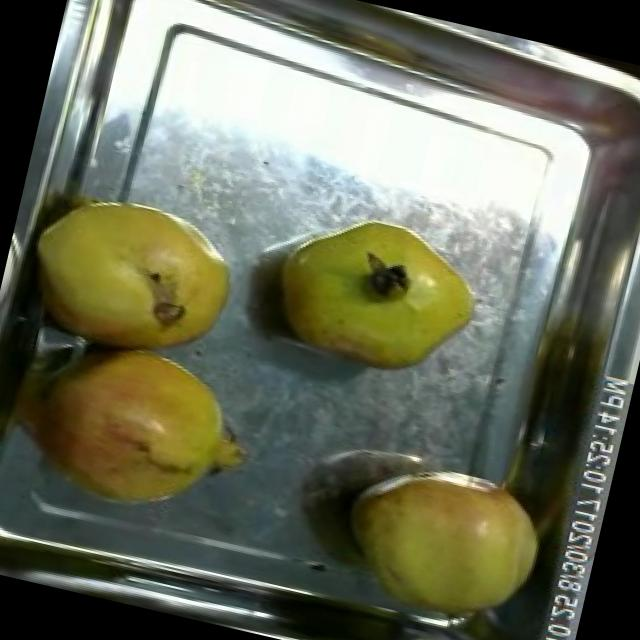fruit: (0, 311, 270, 539), (3, 170, 260, 382), (256, 192, 502, 398), (321, 440, 559, 640)
